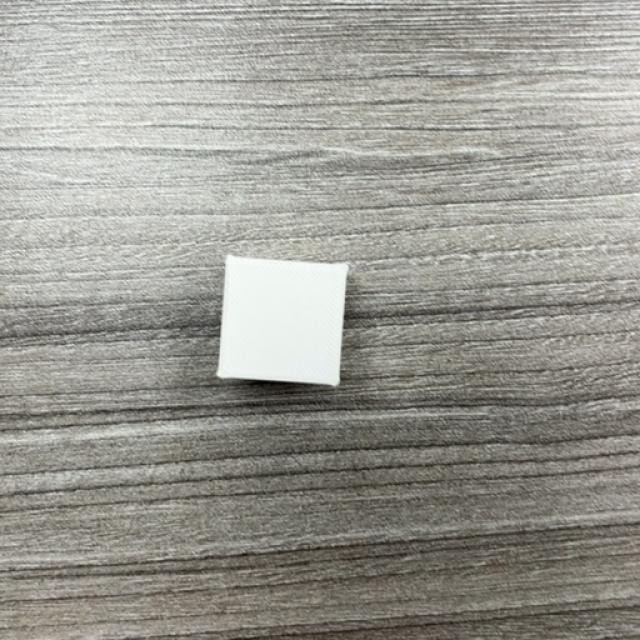Blanco: (218, 256, 350, 390)
